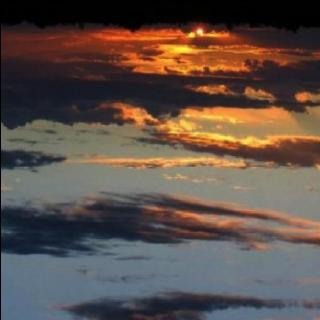Altostratus: (0, 19, 320, 320)
